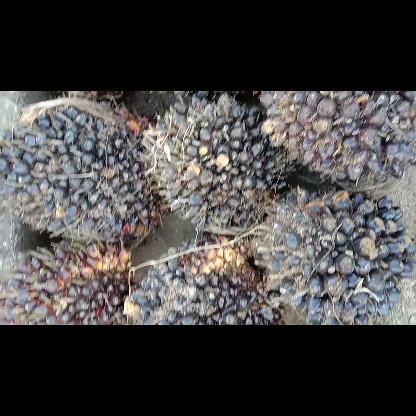TBS mentah: (0, 93, 172, 248), (249, 182, 416, 324), (136, 91, 294, 237), (121, 230, 286, 324), (258, 90, 414, 186), (0, 238, 141, 325)
